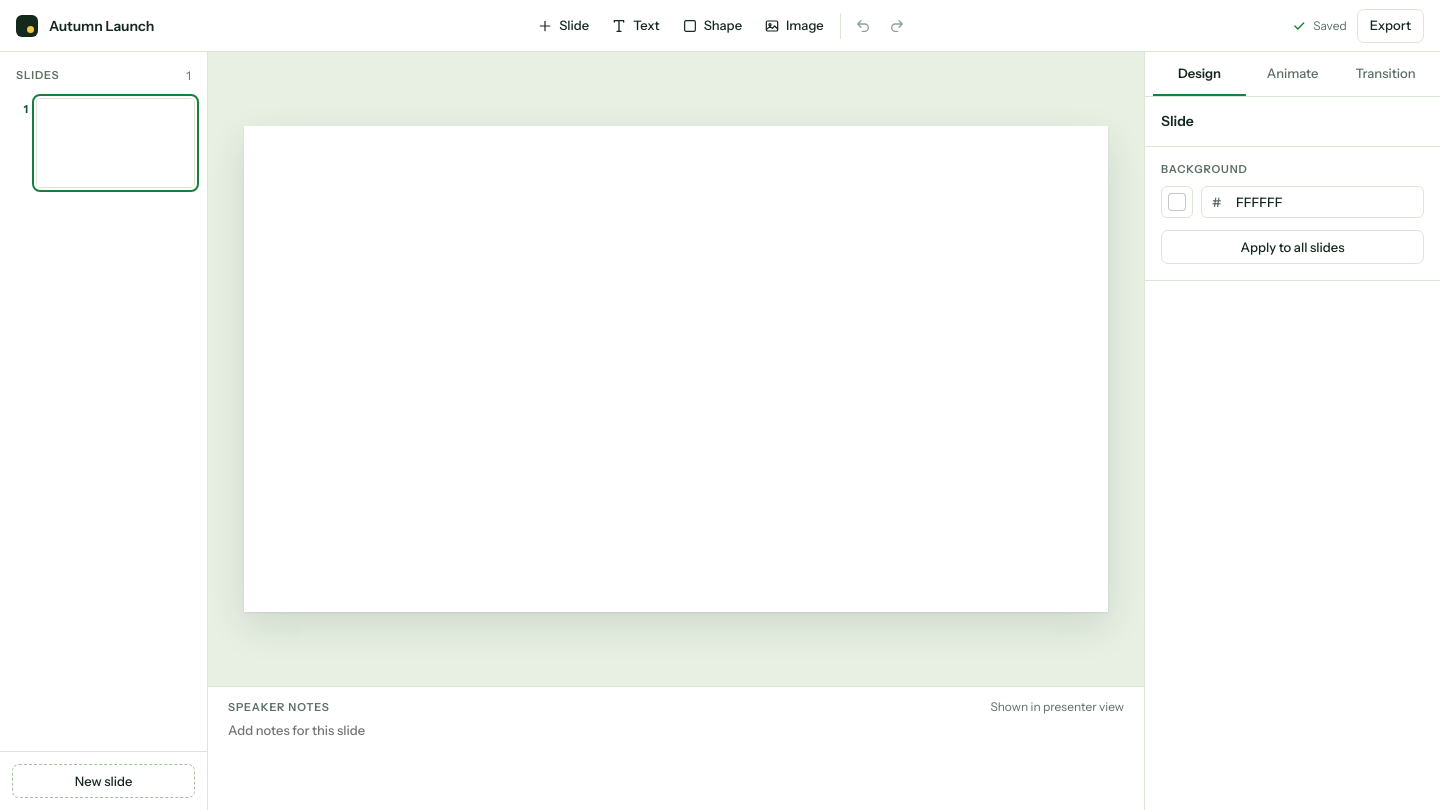
Test case: Given the Add slide button, When it is hovered, Then its hint names it and shows its keys (slide.new)
The width and height of the screenshot is (1440, 810).
Check: the option named "Slide 1" is shown, box top-left (12, 98), bottom-right (195, 188)
Step 1. Hover over the button with aria-label "Add slide" → (563, 26), box top-left (527, 10), bottom-right (599, 42)
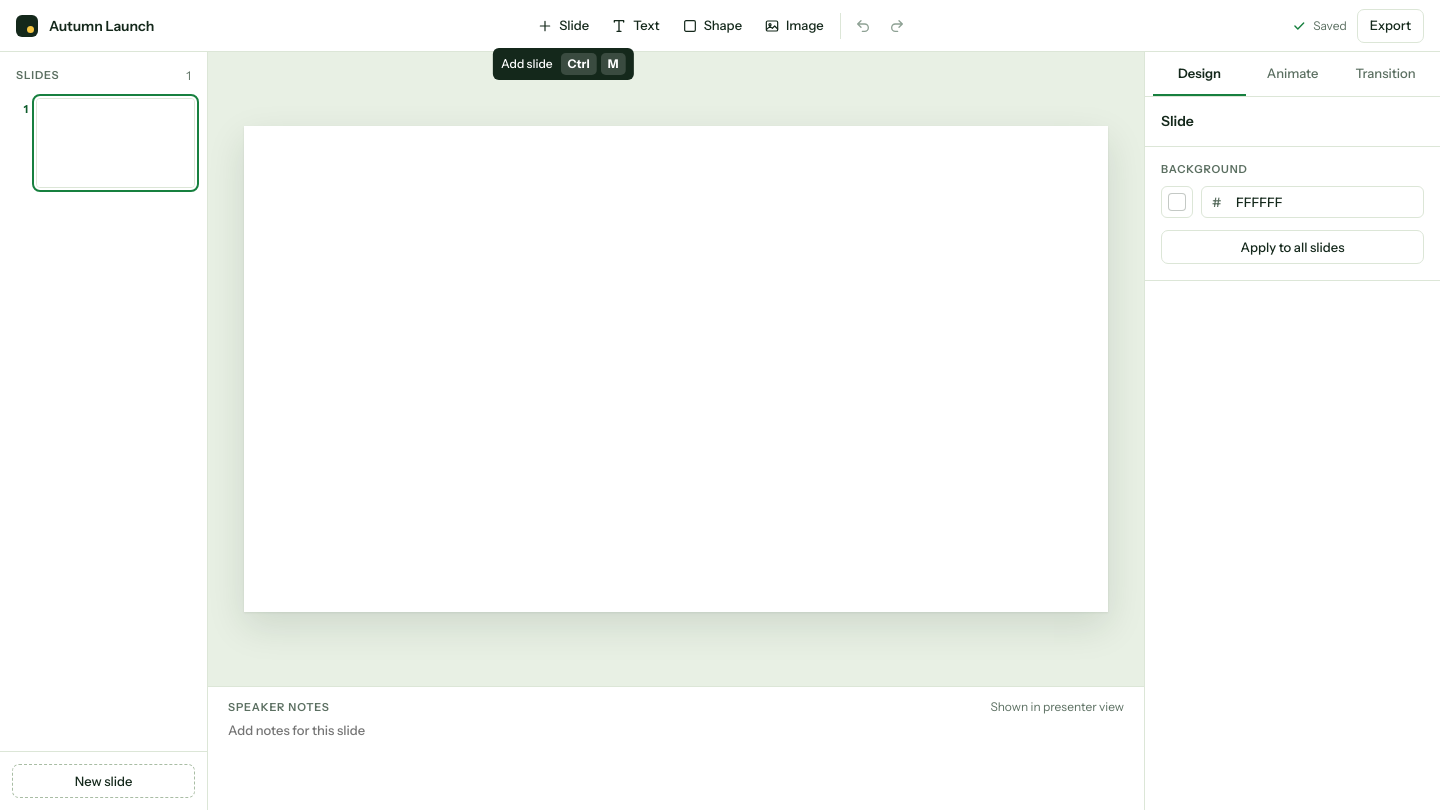
Check: the tooltip "Add slide Ctrl M" is shown, box top-left (493, 48), bottom-right (633, 80)
